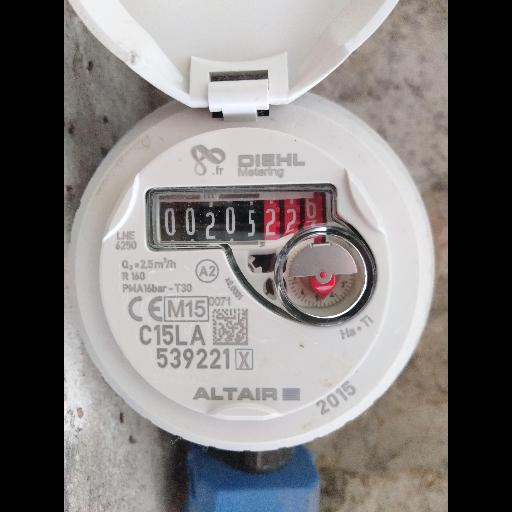0: (221, 200, 241, 240), (161, 203, 181, 242), (180, 203, 200, 242)
2: (201, 201, 222, 241), (261, 200, 281, 240), (282, 198, 300, 237)
5: (242, 201, 262, 240)
6: (301, 191, 324, 231)
border_water_meter_number: (146, 183, 339, 251)
